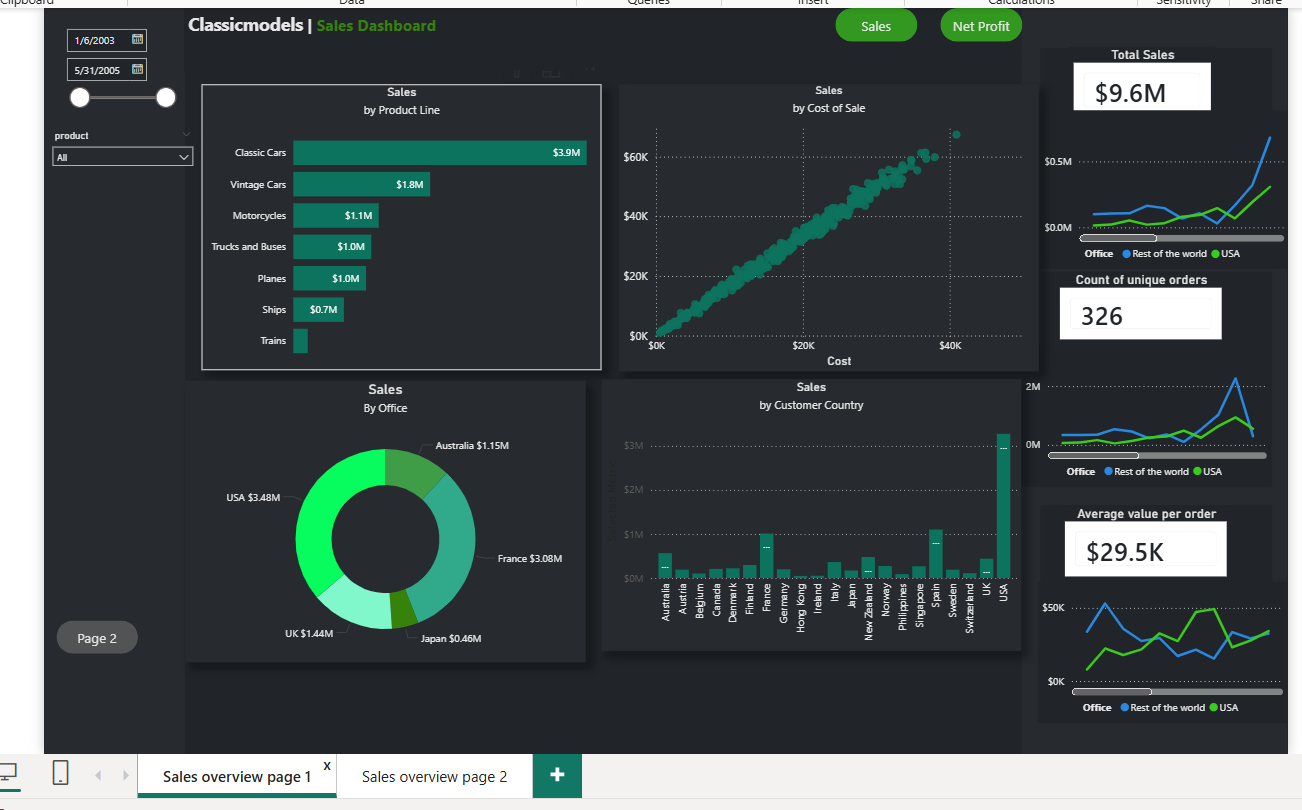

Layout of this report page (visuals, bound fields, positions):
{"tool":"powerbi","page":{"name":"Sales overview page 1","canvas":[1500,900],"ordinal":0},"visuals":[{"type":"shape","box":[0,0,170,900],"z":0},{"type":"shape","box":[1179.9,0,320.7,900],"z":1000},{"type":"shape","box":[1201.2,47.8,279.9,256.9],"z":2000},{"type":"shape","box":[1201.2,318.9,279.9,258.7],"z":3000},{"type":"shape","box":[1201.2,600.6,279.9,256.9],"z":4000},{"type":"cardVisual","title":"Total Sales","fields":{"Data":["Sum(classicmodels sales_data_for_power_bi.sales_value)"]},"box":[1236.6,46.1,177.2,92.1],"z":5000},{"type":"cardVisual","title":"Count of unique orders","fields":{"Data":["Count(classicmodels sales_data_for_power_bi.ordernumber)"]},"box":[1220.7,318.9,207.3,88.6],"z":6000},{"type":"cardVisual","title":"Average value per order","fields":{"Data":["classicmodels sales_data_for_power_bi.Average sales values per order"]},"box":[1226,600.6,207.3,92.1],"z":7000},{"type":"lineChart","fields":{"Y":["Sum(classicmodels sales_data_for_power_bi.sales_value)"],"Category":["classicmodels sales_data_for_power_bi.orderdate.Variation.Date Hierarchy.Year","classicmodels sales_data_for_power_bi.orderdate.Variation.Date Hierarchy.Quarter","classicmodels sales_data_for_power_bi.orderdate.Variation.Date Hierarchy.Month"],"Series":["classicmodels sales_data_for_power_bi.office Grouped"]},"box":[1201.2,124,279.9,180.7],"z":8000},{"type":"lineChart","fields":{"Category":["classicmodels sales_data_for_power_bi.orderdate.Variation.Date Hierarchy.Year","classicmodels sales_data_for_power_bi.orderdate.Variation.Date Hierarchy.Quarter","classicmodels sales_data_for_power_bi.orderdate.Variation.Date Hierarchy.Month"],"Series":["classicmodels sales_data_for_power_bi.office Grouped"],"Y":["Sum(classicmodels sales_data_for_power_bi.ordernumber)"]},"box":[1179.9,407.5,301.2,170.1],"z":9000},{"type":"lineChart","fields":{"Category":["classicmodels sales_data_for_power_bi.orderdate.Variation.Date Hierarchy.Year","classicmodels sales_data_for_power_bi.orderdate.Variation.Date Hierarchy.Quarter","classicmodels sales_data_for_power_bi.orderdate.Variation.Date Hierarchy.Month"],"Series":["classicmodels sales_data_for_power_bi.office Grouped"],"Y":["classicmodels sales_data_for_power_bi.Average sales values per order"]},"box":[1199.4,692.7,301.2,170.1],"z":10000},{"type":"lineChart","fields":{"Y":["Sum(classicmodels sales_data_for_power_bi.sales_value)"],"Category":["classicmodels sales_data_for_power_bi.orderdate.Variation.Date Hierarchy.Year","classicmodels sales_data_for_power_bi.orderdate.Variation.Date Hierarchy.Quarter","classicmodels sales_data_for_power_bi.orderdate.Variation.Date Hierarchy.Month"],"Series":["classicmodels sales_data_for_power_bi.office Grouped"]},"box":[1201.2,124,299.4,191.3],"z":11000},{"type":"clusteredBarChart","fields":{"Y":["Table.Selected Metric"],"Category":["classicmodels sales_data_for_power_bi.productLine"]},"box":[190,91.7,483.3,345],"z":12000},{"type":"actionButton","box":[954.9,0,99.2,40.7],"z":13000},{"type":"actionButton","box":[1080.7,0,99.2,40.7],"z":14000},{"type":"donutChart","fields":{"Y":["Table.Selected Metric"],"Category":["classicmodels sales_data_for_power_bi.office_country"]},"box":[170,450,483.3,340],"z":16000},{"type":"scatterChart","fields":{"Y":["Table.Selected Metric"],"Category":["classicmodels sales_data_for_power_bi.ordernumber"],"X":["Sum(classicmodels sales_data_for_power_bi.cost_of_sales)"]},"box":[693.3,91.7,506.7,346.7],"z":17000},{"type":"columnChart","fields":{"Y":["Table.Selected Metric"],"Category":["classicmodels sales_data_for_power_bi.customer_country"]},"box":[673.3,448.3,506.7,328.3],"z":18000},{"type":"textbox","box":[168.3,0,485,75],"z":19000},{"type":"actionButton","box":[15,738.3,98.3,40],"z":20000},{"type":"slicer","fields":{"Values":["classicmodels sales_data_for_power_bi.orderdate"]},"box":[15,15,153.3,123.3],"z":21000},{"type":"slicer","fields":{"Values":["classicmodels sales_data_for_power_bi.productName"]},"box":[0,141.7,190,123.3],"z":22000}]}

Visuals, with their boxes on the page's 1500x900 design canvas (x1, y1, x2, y2). These are canvas units, not pixel positions in the 1302x810 screenshot, which may show the page scaled, cropped or inside an application window:
shape: <region>0, 0, 170, 900</region>
shape: <region>1180, 0, 1501, 900</region>
shape: <region>1201, 48, 1481, 305</region>
shape: <region>1201, 319, 1481, 578</region>
shape: <region>1201, 601, 1481, 858</region>
"Total Sales" cardVisual: <region>1237, 46, 1414, 138</region>
"Count of unique orders" cardVisual: <region>1221, 319, 1428, 408</region>
"Average value per order" cardVisual: <region>1226, 601, 1433, 693</region>
lineChart - Sum(classicmodels sales_data_for_power_bi.sales_value) x classicmodels sales_data_for_power_bi.orderdate.Variation.Date Hierarchy.Year: <region>1201, 124, 1481, 305</region>
lineChart - classicmodels sales_data_for_power_bi.orderdate.Variation.Date Hierarchy.Year x classicmodels sales_data_for_power_bi.orderdate.Variation.Date Hierarchy.Quarter: <region>1180, 408, 1481, 578</region>
lineChart - classicmodels sales_data_for_power_bi.orderdate.Variation.Date Hierarchy.Year x classicmodels sales_data_for_power_bi.orderdate.Variation.Date Hierarchy.Quarter: <region>1199, 693, 1501, 863</region>
lineChart - Sum(classicmodels sales_data_for_power_bi.sales_value) x classicmodels sales_data_for_power_bi.orderdate.Variation.Date Hierarchy.Year: <region>1201, 124, 1501, 315</region>
clusteredBarChart - Table.Selected Metric x classicmodels sales_data_for_power_bi.productLine: <region>190, 92, 673, 437</region>
actionButton: <region>955, 0, 1054, 41</region>
actionButton: <region>1081, 0, 1180, 41</region>
donutChart - Table.Selected Metric x classicmodels sales_data_for_power_bi.office_country: <region>170, 450, 653, 790</region>
scatterChart - Table.Selected Metric x classicmodels sales_data_for_power_bi.ordernumber: <region>693, 92, 1200, 438</region>
columnChart - Table.Selected Metric x classicmodels sales_data_for_power_bi.customer_country: <region>673, 448, 1180, 777</region>
textbox: <region>168, 0, 653, 75</region>
actionButton: <region>15, 738, 113, 778</region>
slicer - classicmodels sales_data_for_power_bi.orderdate: <region>15, 15, 168, 138</region>
slicer - classicmodels sales_data_for_power_bi.productName: <region>0, 142, 190, 265</region>
